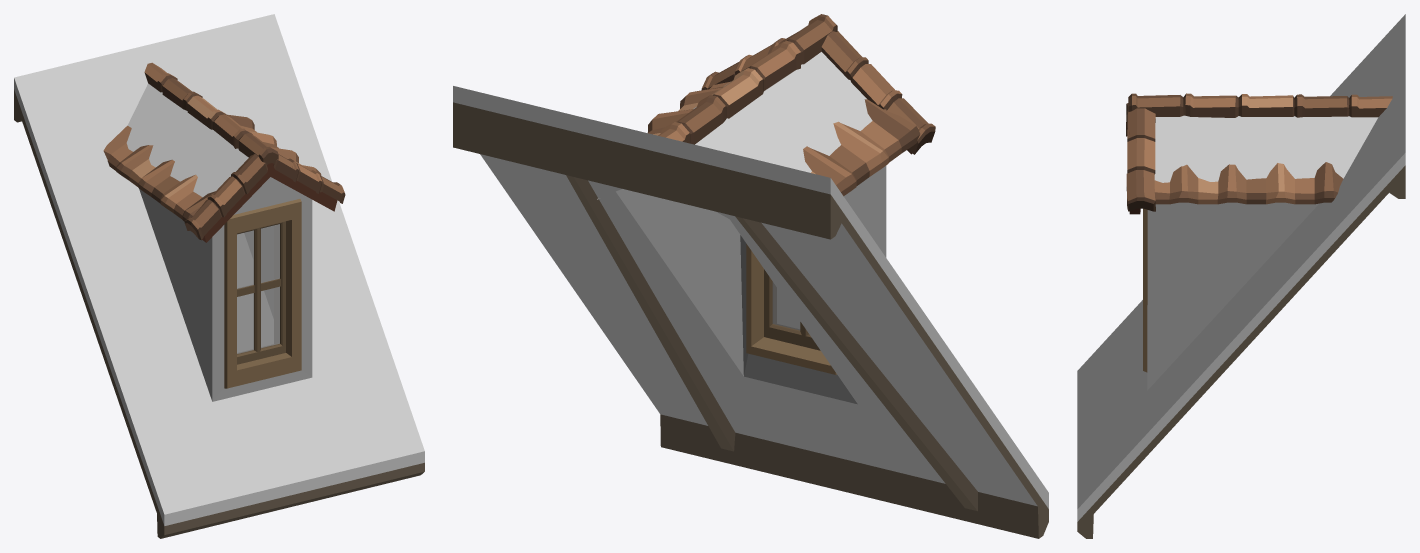
Rendered from SM_Bld_Roof_Manor_Window_01.fbx.
3 views of the same model, side by side, from view 1: azimuth 30°, elevation 25°; view 2: azimuth 150°, elevation 25°; view 3: azimuth 270°, elevation 25° (orthographic). The views are drawn at different scales.
Parts seen in each view (by area): view 1: SM_Bld_Roof_Manor_Window_01; view 2: SM_Bld_Roof_Manor_Window_01; view 3: SM_Bld_Roof_Manor_Window_01.
Boxes of the visible parts, left/top/right/bottom form: SM_Bld_Roof_Manor_Window_01: left=14, top=14, right=424, bottom=538; SM_Bld_Roof_Manor_Window_01: left=453, top=14, right=1048, bottom=538; SM_Bld_Roof_Manor_Window_01: left=1077, top=14, right=1405, bottom=538.
Bounding box in the file's own units: 250 × 325 × 250.
